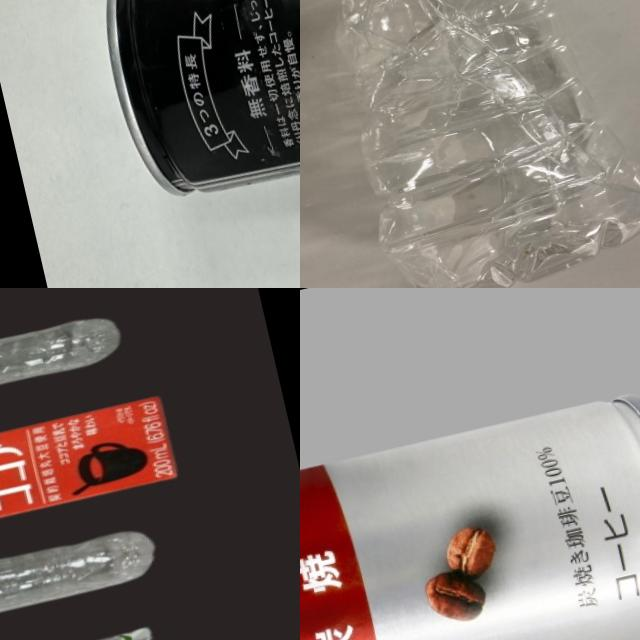Aluminium Foil: (0, 387, 191, 578)
Can: (300, 378, 640, 640), (81, 0, 300, 215)
Transparent Plastic Bottle: (300, 0, 640, 288), (0, 518, 162, 640), (0, 305, 132, 446)
